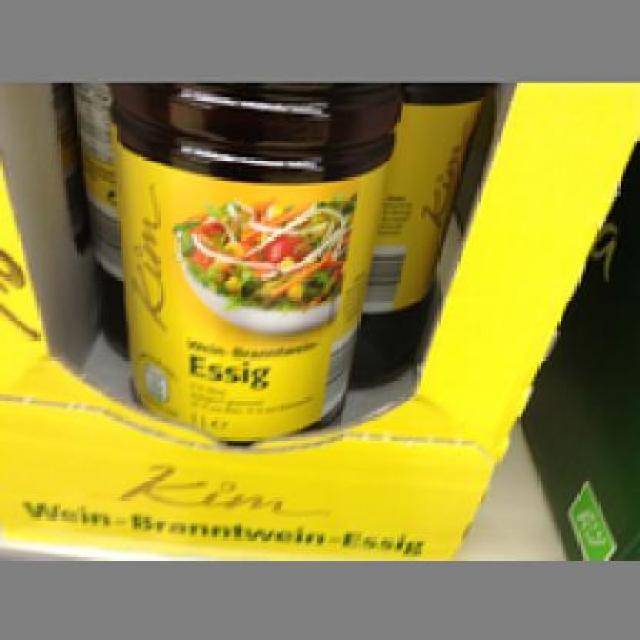Vinegar: (102, 82, 395, 435)
